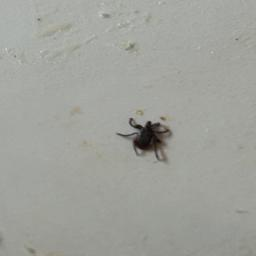Ixodes scapularis: (116, 117, 170, 161)
